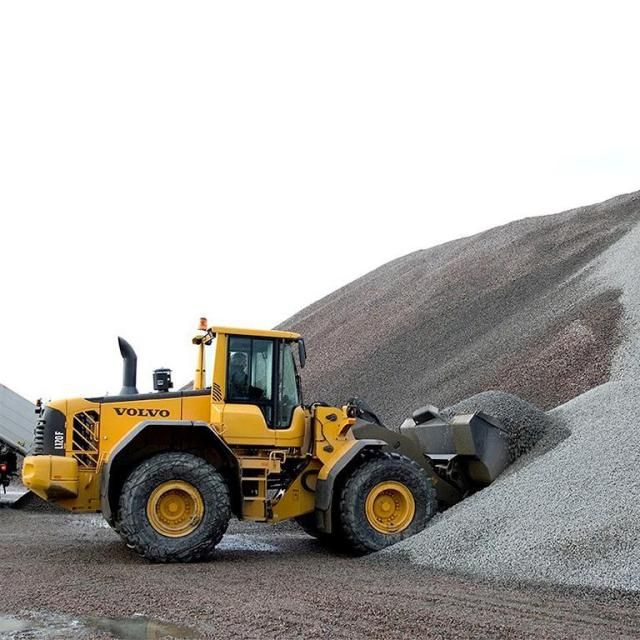buldozerpayloadergrader: (19, 316, 459, 563)
